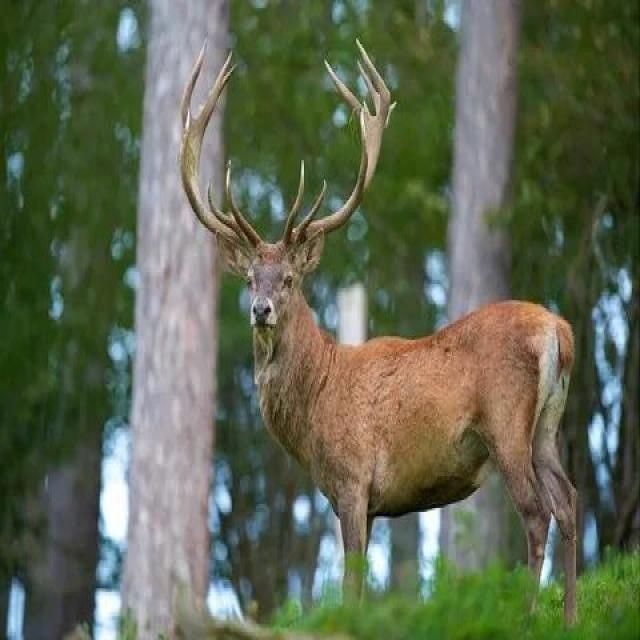deer: (212, 183, 594, 569)
